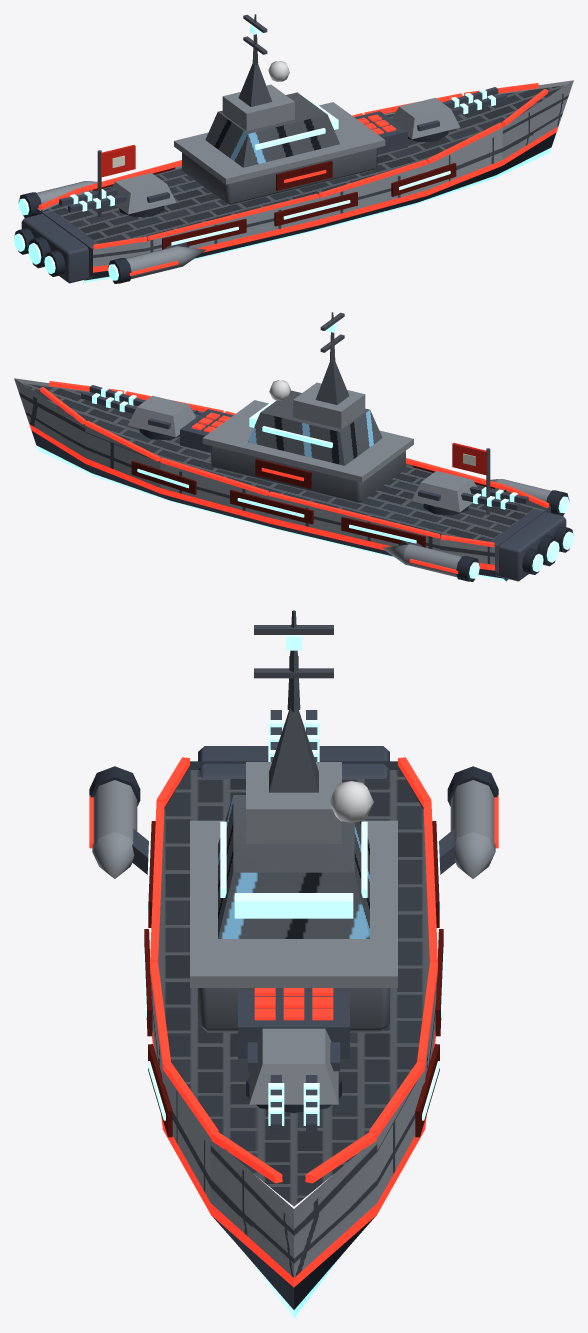
File: cruiser_scifi_red.glb
3 renders of one model, top to bottom at view 1: azimuth 30°, elevation 25°; view 2: azimuth 150°, elevation 25°; view 3: azimuth 270°, elevation 25°, orthographic. The views are drawn at different scales.
Parts seen in each view (by area): view 1: cruiser_scifi_red; view 2: cruiser_scifi_red; view 3: cruiser_scifi_red.
Part boxes in pixels (left/top/right/bottom): cruiser_scifi_red: left=14, top=14, right=573, bottom=283; cruiser_scifi_red: left=14, top=312, right=573, bottom=581; cruiser_scifi_red: left=89, top=610, right=498, bottom=1318.
Size of the model in its own units: 0.78 by 0.29 by 0.256.
Materials: 3 (1 with a texture image).
